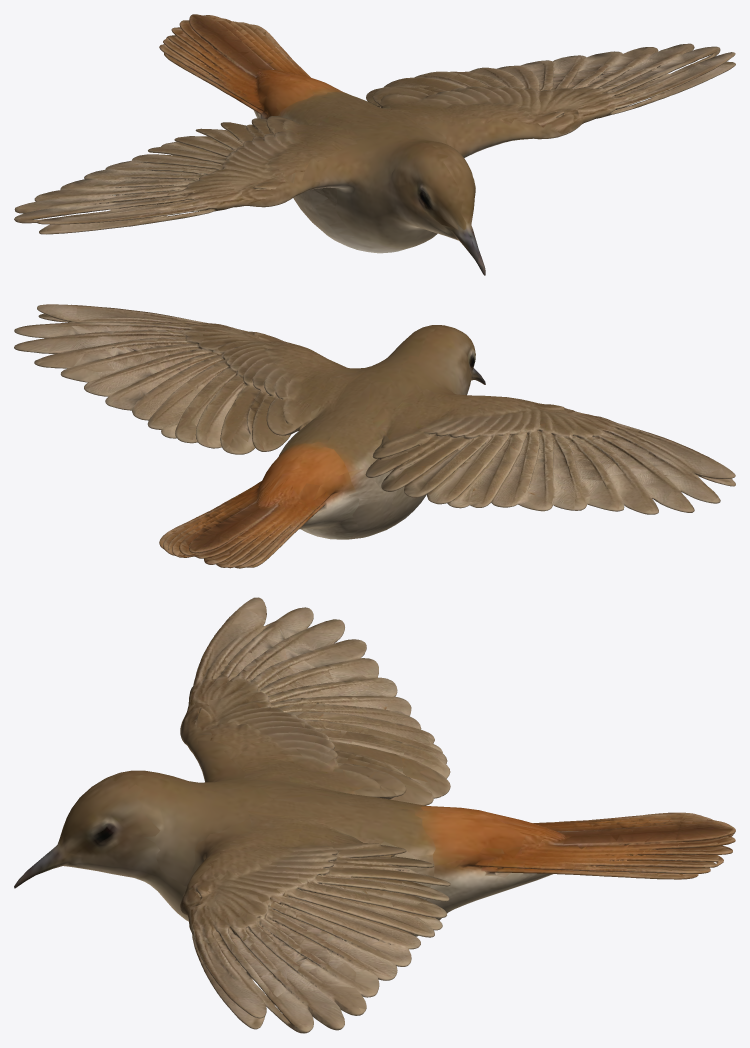
Rendered from Luscinia_megarhynchos.glb.
3 views of the same model, one above another, from view 1: azimuth 30°, elevation 25°; view 2: azimuth 150°, elevation 25°; view 3: azimuth 270°, elevation 25° (orthographic). The views are drawn at different scales.
Visible parts, largest first — view 1: orient; view 2: orient; view 3: orient.
Boxes of the visible parts, x1,y1,x2,y2 form: orient: (14, 14, 735, 275); orient: (14, 304, 735, 568); orient: (14, 597, 735, 1033).
Bounding box in the file's own units: 0.4999 × 0.098 × 0.3599.
Materials: 1 (1 with a texture image).
